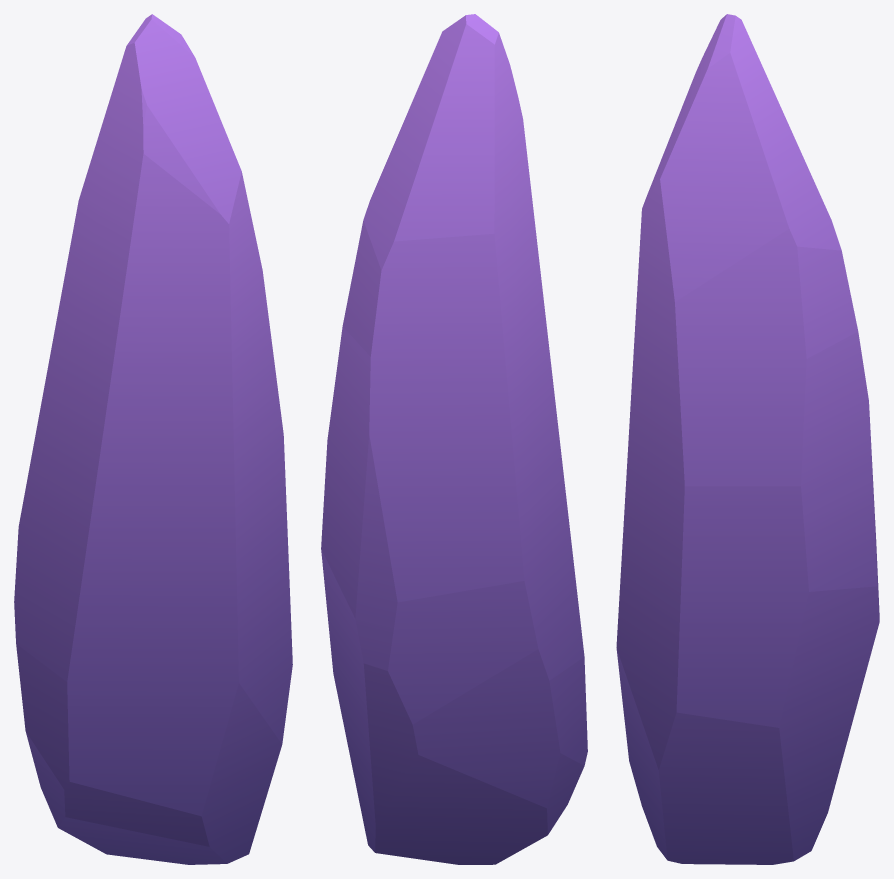
File: Crystal_P_8.glb
3 renders of one model, left to right at view 1: azimuth 30°, elevation 25°; view 2: azimuth 150°, elevation 25°; view 3: azimuth 270°, elevation 25°, orthographic.
Parts seen in each view (by area): view 1: crystal_8; view 2: crystal_8; view 3: crystal_8.
Part boxes in pixels (left/top/right/bottom): crystal_8: left=14, top=14, right=292, bottom=864; crystal_8: left=321, top=14, right=587, bottom=864; crystal_8: left=616, top=14, right=879, bottom=864.
Bounding box in the file's own units: 0.276 × 1 × 0.2888.
1 material, 1 textured.
